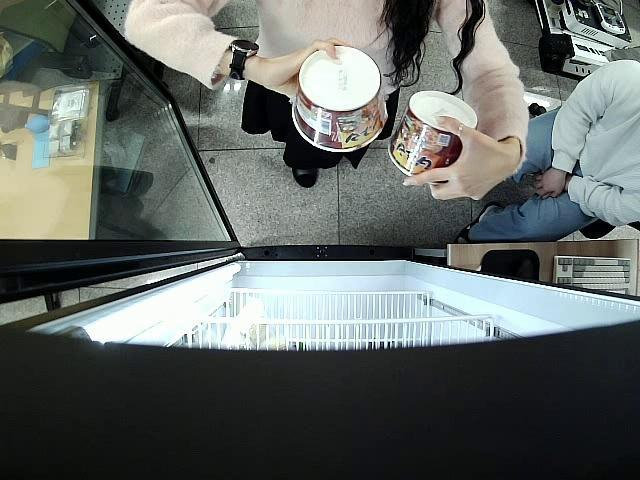05_nuguri_L: (292, 46, 388, 152), (392, 91, 481, 178)
